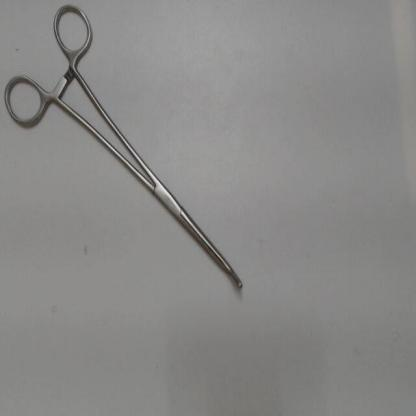Lahey Forceps: (2, 3, 250, 300)
